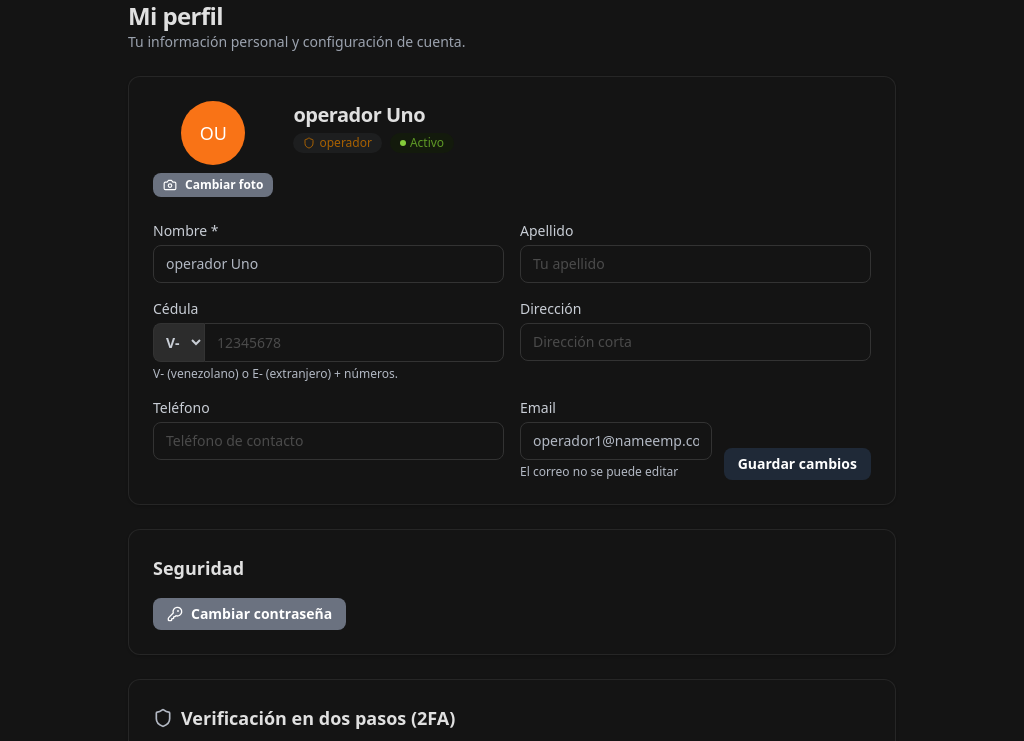
Test: ProfilePage — cambiar contraseña › avisa si la nueva contraseña no coincide con la confirmación
The width and height of the screenshot is (1024, 741).
Click the button "Cambiar contraseña" at (250, 614), box [153,598,346,630]
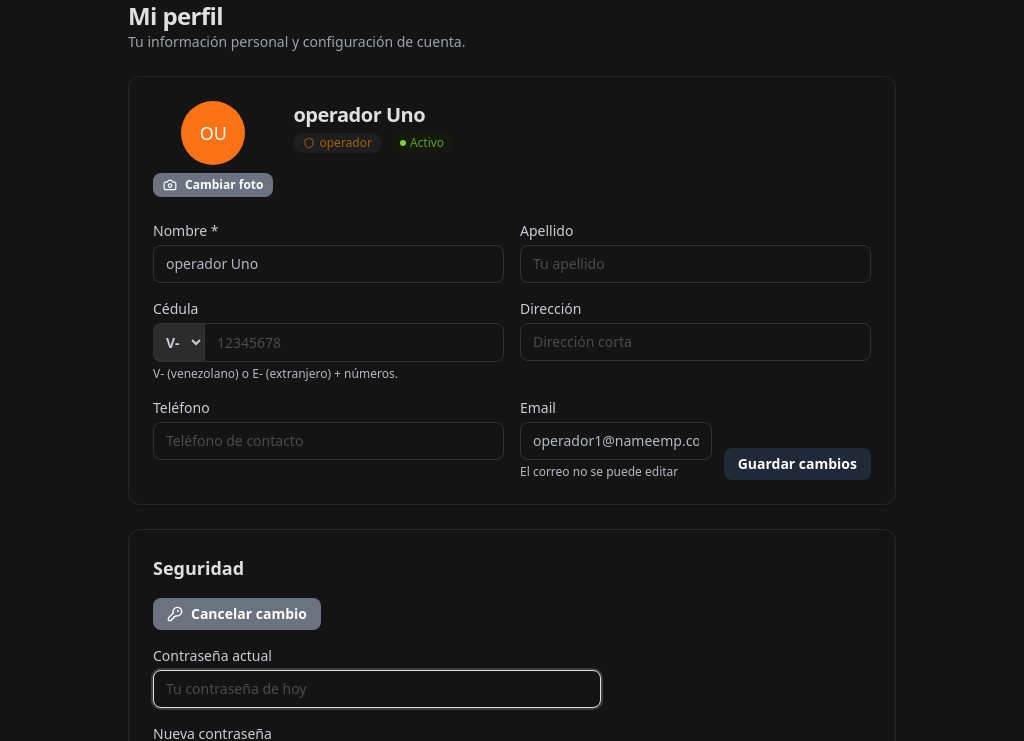
Type "Batista2026!" into the password field labelled "Contraseña actual" at (377, 689), box [153,670,601,708]
(page scrolled)
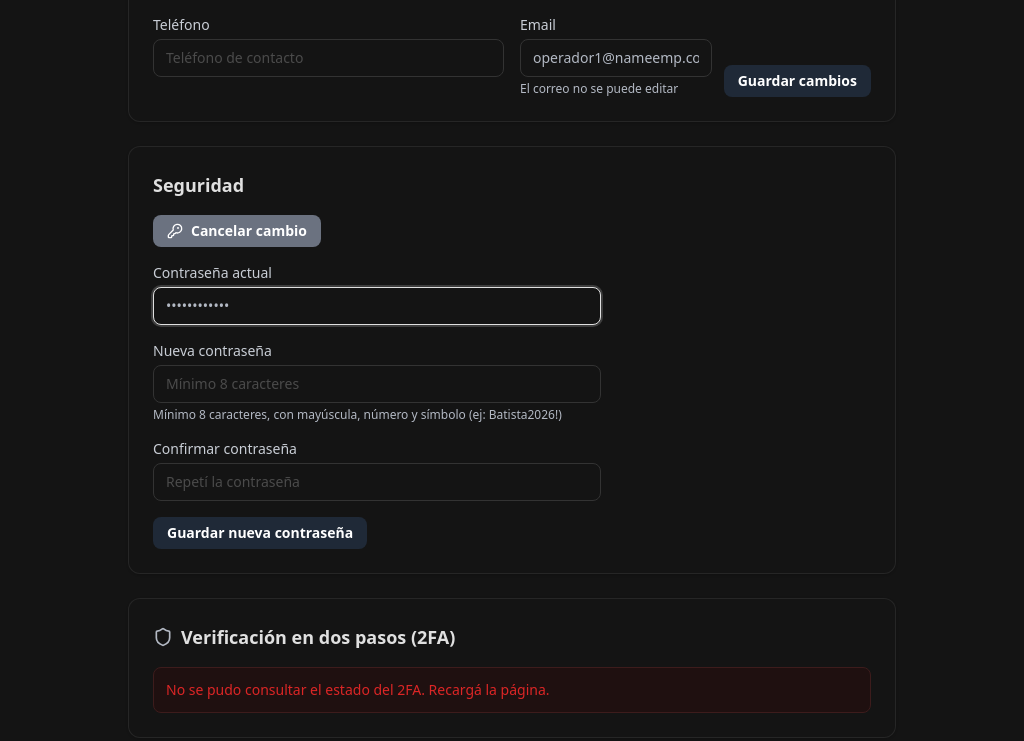
Type "Batista2027!" into the password field labelled "Nueva contraseña" at (377, 384), box [153,365,601,403]
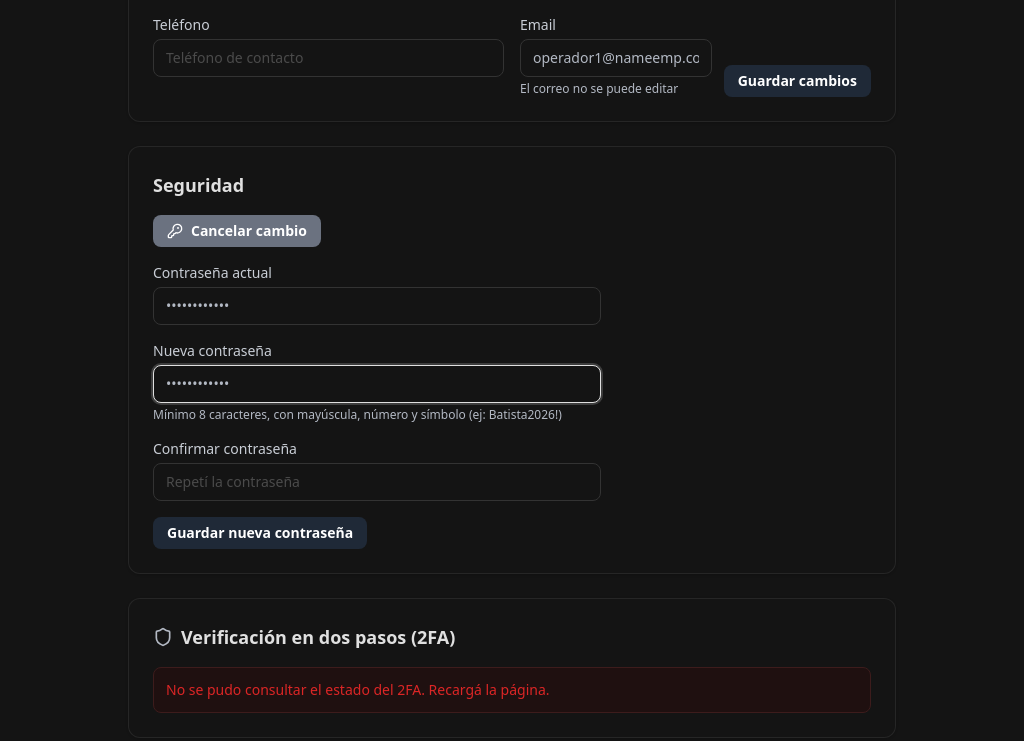
Type "Batista2028!" into the password field labelled "Confirmar contraseña" at (377, 482), box [153,463,601,501]
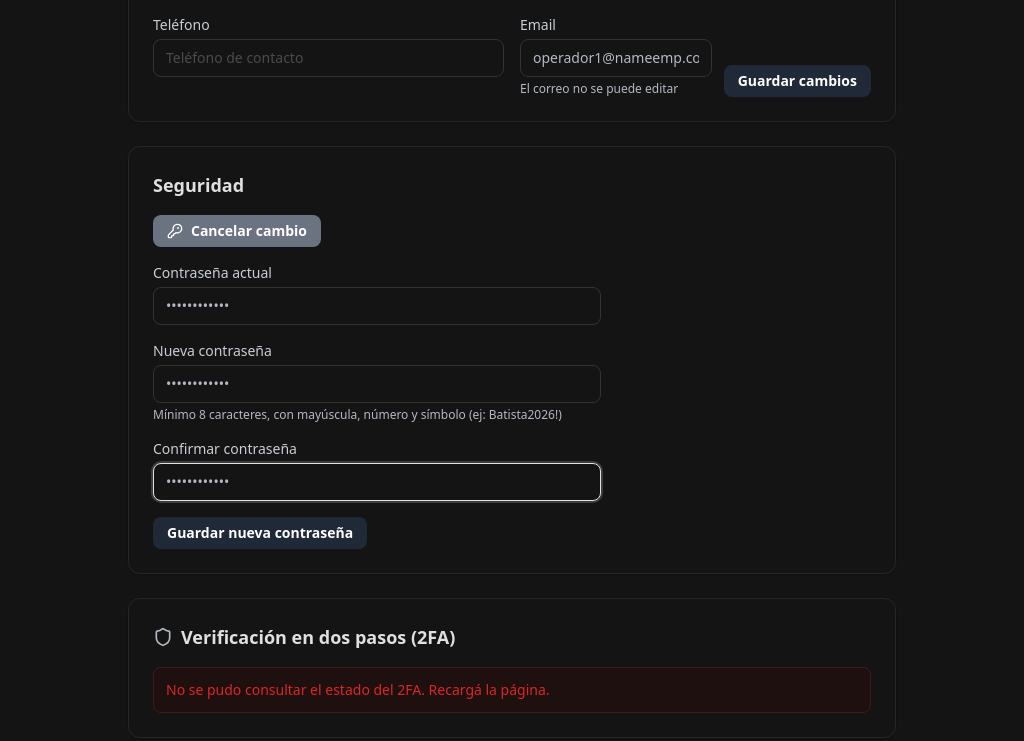
Click the button "Guardar nueva contraseña" at (260, 533), box [153,517,367,549]
(page scrolled)
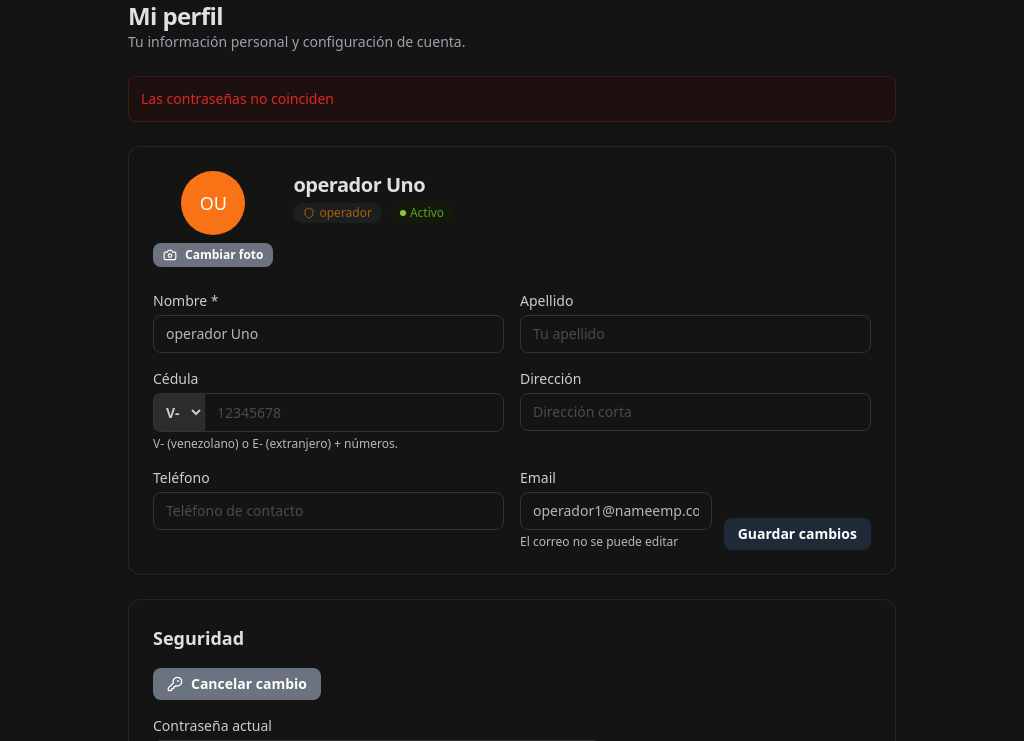
Expected: the text "Las contraseñas no coinciden" is shown, [128,76,896,122]
